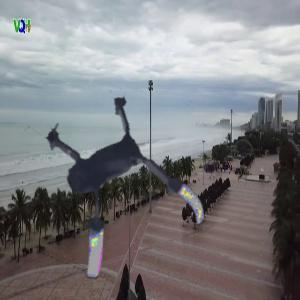drone: (7, 82, 214, 289)
